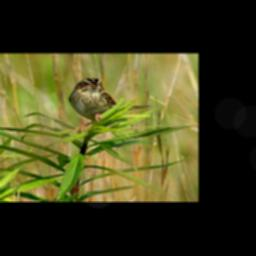Sparrow: (67, 77, 153, 138)
